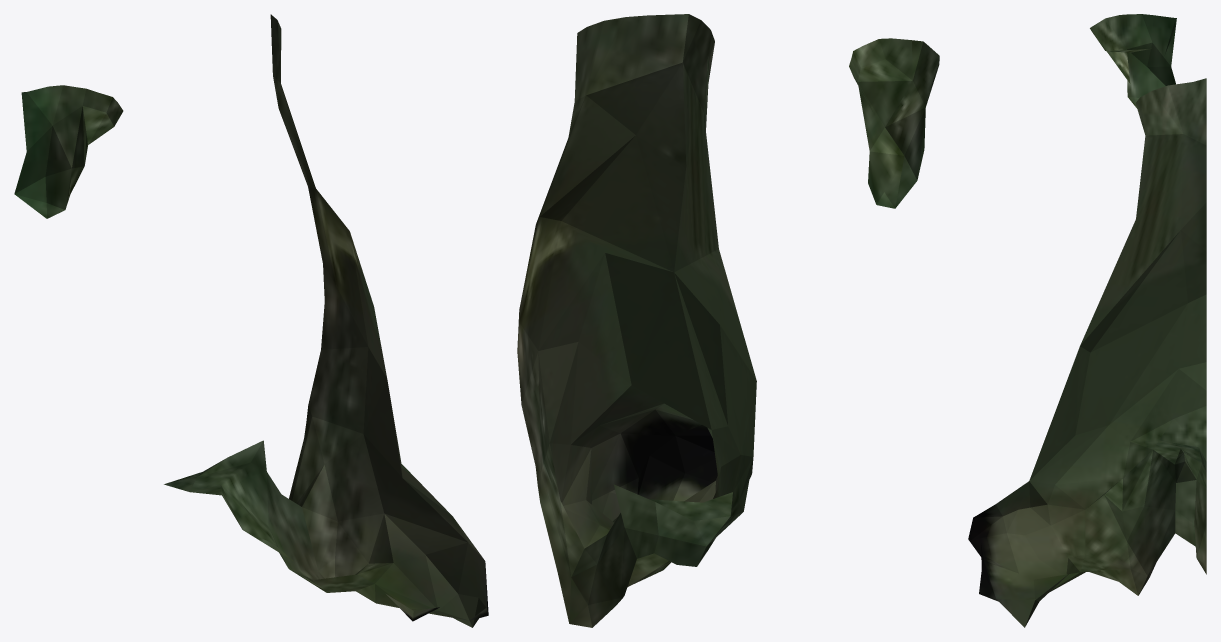
3 views of the same model, side by side, from view 1: azimuth 30°, elevation 25°; view 2: azimuth 150°, elevation 25°; view 3: azimuth 270°, elevation 25° (orthographic). The views are drawn at different scales.
Bounding box in the file's own units: 5.04 × 7.13 × 3.32.
Materials: 1 (1 with a texture image).
